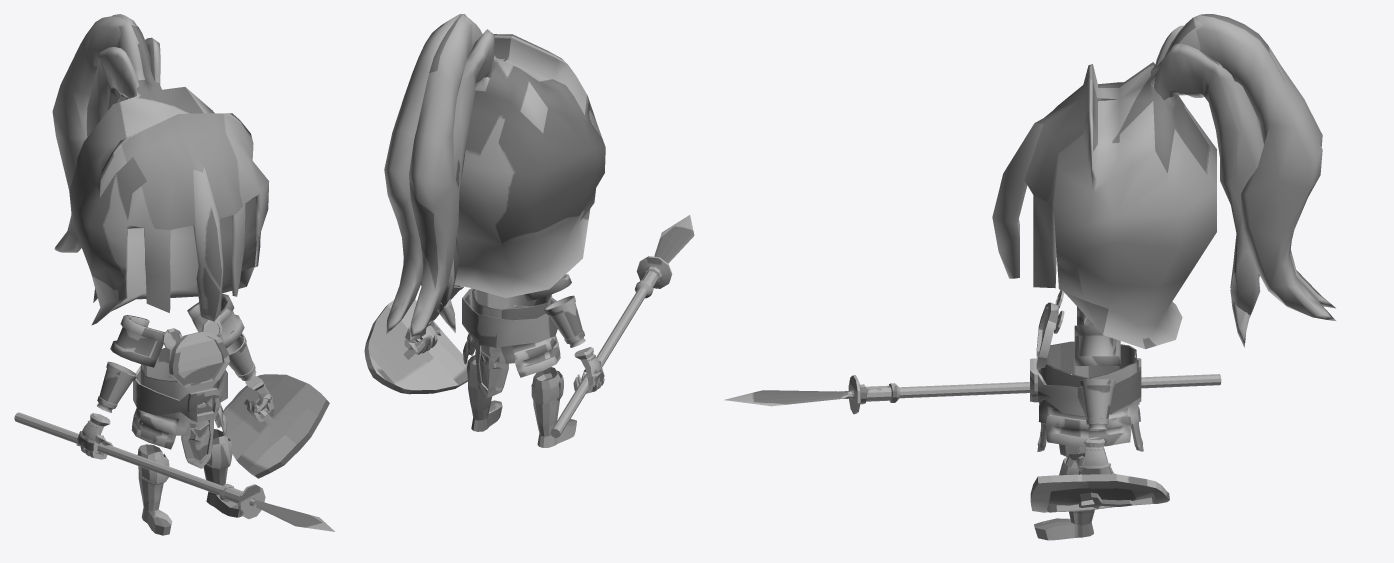
File: armoredboiSeparate.fbx
3 renders of one model, left to right at view 1: azimuth 30°, elevation 25°; view 2: azimuth 150°, elevation 25°; view 3: azimuth 270°, elevation 25°, orthographic. The views are drawn at different scales.
Visible parts, largest first — view 1: polySurface94, polySurface127, polySurface92, polySurface95, polySurface123, polySurface124, polySurface122, polySurface98, polySurface120, polySurface99, polySurface89, polySurface97 (+3 smaller); view 2: polySurface94, polySurface127, polySurface92, polySurface95, polySurface124, polySurface122, polySurface93, polySurface120, polySurface89, polySurface79, polySurface98; view 3: polySurface94, polySurface95, polySurface92, polySurface127, polySurface124, polySurface120, polySurface97, polySurface114, polySurface123, polySurface107.
Part boxes in pixels (x1,y1,x2,y2): polySurface94: (52, 14, 269, 325); polySurface127: (223, 374, 329, 478); polySurface92: (14, 412, 334, 531); polySurface95: (131, 347, 227, 449); polySurface123: (169, 331, 229, 391); polySurface124: (133, 365, 227, 422); polySurface122: (137, 444, 172, 535); polySurface98: (110, 315, 164, 367); polySurface120: (203, 429, 242, 517); polySurface99: (181, 419, 214, 468); polySurface89: (97, 361, 137, 412); polySurface97: (187, 293, 244, 348); polySurface94: (384, 14, 605, 340); polySurface127: (364, 299, 468, 394); polySurface92: (550, 215, 694, 437); polySurface95: (463, 289, 560, 377); polySurface124: (462, 288, 557, 347); polySurface122: (531, 367, 576, 447); polySurface93: (475, 343, 508, 398); polySurface120: (467, 355, 502, 431); polySurface89: (544, 295, 585, 347); polySurface79: (574, 347, 604, 385); polySurface98: (524, 274, 571, 301); polySurface94: (992, 14, 1336, 349); polySurface95: (1038, 341, 1138, 446); polySurface92: (724, 374, 1221, 414); polySurface127: (1030, 471, 1169, 512); polySurface124: (1030, 358, 1141, 416); polySurface120: (1034, 453, 1094, 540); polySurface97: (1074, 325, 1120, 366); polySurface114: (1079, 379, 1115, 430); polySurface123: (1036, 302, 1058, 369); polySurface107: (1075, 438, 1111, 474).
Size of the model in its own units: 1.92 by 3.56 by 4.2.
1 material, 1 textured.
